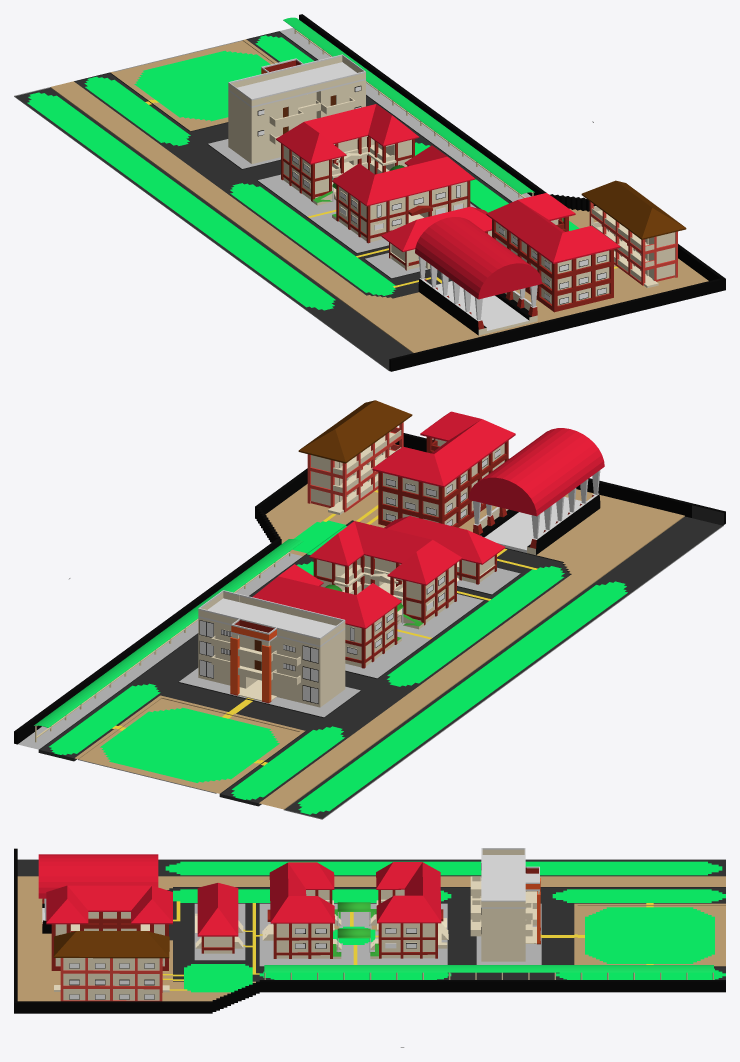
Rendered from psu-campus.glb.
3 views of the same model, one above another, from view 1: azimuth 30°, elevation 25°; view 2: azimuth 150°, elevation 25°; view 3: azimuth 270°, elevation 25° (orthographic). The views are drawn at different scales.
Visible parts, largest first — view 1: Plane.004, Plane, Cube, beam.002, beam.001, mrm roop.002, Plane.002, Cube.003, canteen, hallway.002, hallway.007, hallway.001; view 2: Plane.004, Cube, Plane, beam.001, mrm roop.002, Plane.002, beam.002, canteen, Cube.003, hallway.007, hallway.002, hallway.001; view 3: Plane.004, Plane.002, Cube, beam.002, beam.001, mrm roop.002, Plane, canteen, hallway.007, hallway.002, hallway.001, Cube.003 (+2 smaller).
Part boxes in pixels (<box>): Plane.004: <box>14,14,725,371</box>; Plane: <box>415,217,541,335</box>; Cube: <box>228,54,365,163</box>; beam.002: <box>276,104,419,205</box>; beam.001: <box>332,145,475,243</box>; mrm roop.002: <box>486,193,620,305</box>; Plane.002: <box>581,180,686,287</box>; Cube.003: <box>492,216,613,312</box>; canteen: <box>381,206,491,270</box>; hallway.002: <box>423,120,534,198</box>; hallway.007: <box>283,17,394,104</box>; hallway.001: <box>368,79,478,162</box>; Plane.004: <box>14,433,725,819</box>; Cube: <box>198,590,345,707</box>; Plane: <box>468,428,604,555</box>; beam.001: <box>309,521,462,629</box>; mrm roop.002: <box>372,411,515,525</box>; Plane.002: <box>298,400,412,514</box>; beam.002: <box>252,564,401,668</box>; canteen: <box>384,516,505,584</box>; Cube.003: <box>378,437,508,527</box>; hallway.007: <box>34,648,152,742</box>; hallway.002: <box>184,539,302,632</box>; hallway.001: <box>124,583,240,671</box>; Plane.004: <box>14,848,725,1047</box>; Plane.002: <box>53,931,169,1001</box>; Cube: <box>470,848,540,961</box>; beam.002: <box>369,862,448,958</box>; beam.001: <box>262,862,341,958</box>; mrm roop.002: <box>46,885,172,999</box>; Plane: <box>38,854,158,933</box>; canteen: <box>195,883,243,953</box>; hallway.007: <box>528,965,713,979</box>; hallway.002: <box>264,965,450,979</box>; hallway.001: <box>369,965,555,979</box>; Cube.003: <box>51,912,168,970</box>.
Bounding box in the file's own units: 59.01 × 10.05 × 94.52.
